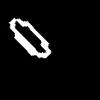chain: (10, 18, 50, 57)
